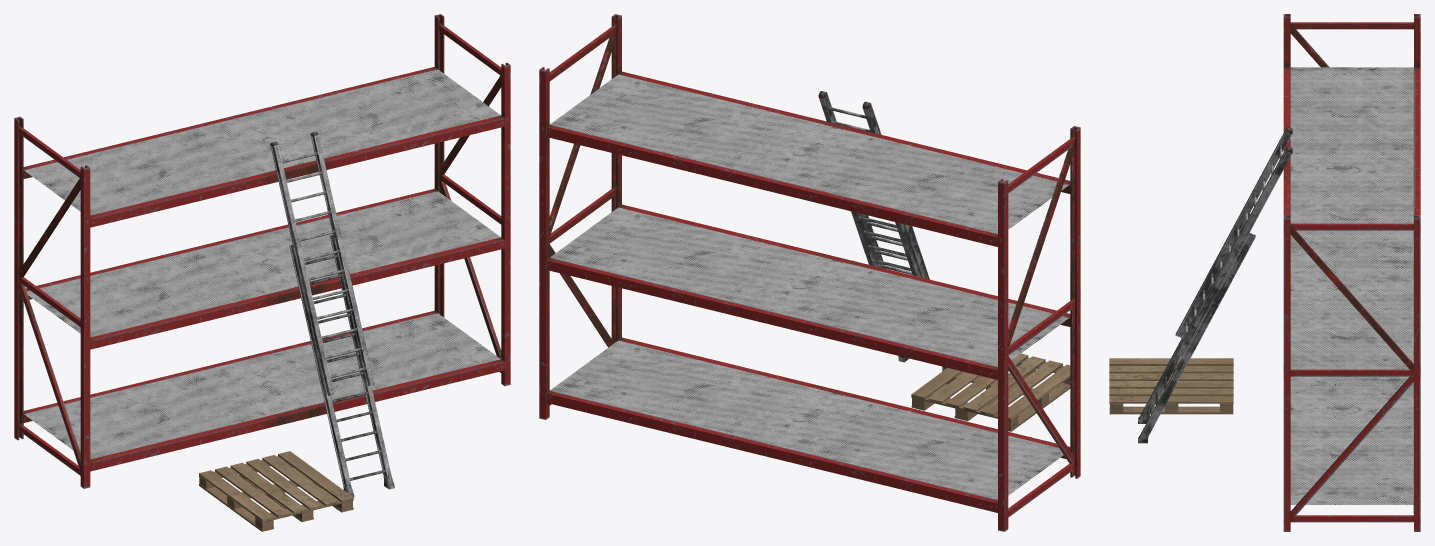
Rendered from warehouse_shelf.glb.
3 renders of one model, left to right at view 1: azimuth 30°, elevation 25°; view 2: azimuth 150°, elevation 25°; view 3: azimuth 270°, elevation 25°, orthographic. The views are drawn at different scales.
Parts seen in each view (by area): view 1: Shelf, Ladder, Pallet; view 2: Shelf, Pallet, Ladder; view 3: Shelf, Ladder, Pallet.
Boxes of the visible parts, bbox=[...] form: Shelf: bbox=[14, 14, 510, 488]; Ladder: bbox=[270, 131, 394, 497]; Pallet: bbox=[199, 451, 353, 531]; Shelf: bbox=[539, 14, 1080, 531]; Pallet: bbox=[911, 353, 1070, 431]; Ladder: bbox=[818, 91, 947, 371]; Shelf: bbox=[1283, 14, 1420, 531]; Ladder: bbox=[1138, 127, 1292, 443]; Pallet: bbox=[1109, 358, 1233, 414].
Size of the model in its own units: 5.08 by 3.67 by 3.28.
1 material, 1 textured.
